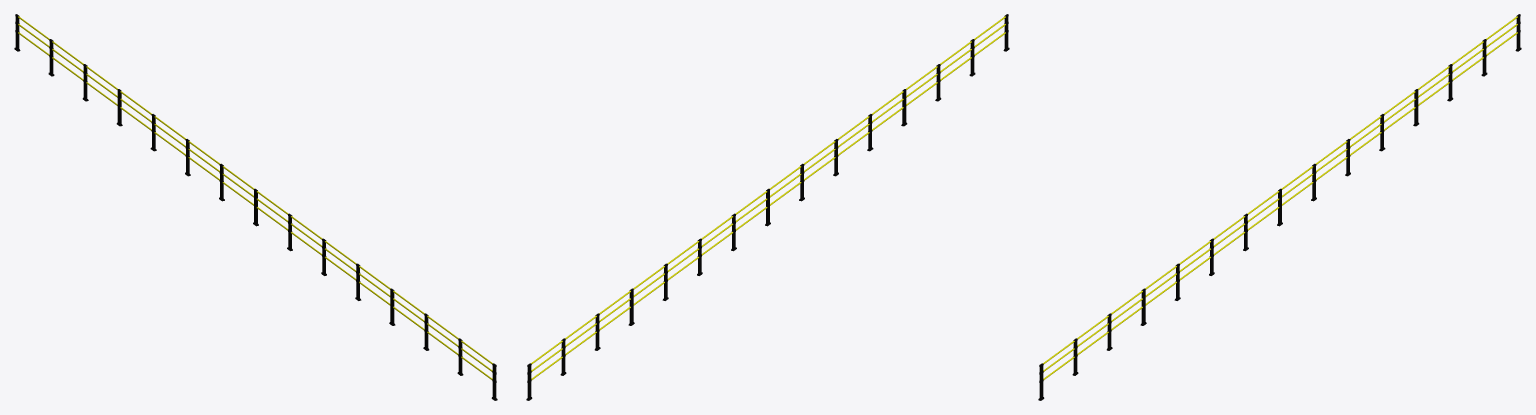
Rendered from Road_Fence.fbx.
3 renders of one model, left to right at view 1: azimuth 30°, elevation 25°; view 2: azimuth 150°, elevation 25°; view 3: azimuth 330°, elevation 25°, orthographic.
Visible parts, largest first — view 1: Road_Fence; view 2: Road_Fence; view 3: Road_Fence.
Part boxes in pixels (x1,y1,x2,y2): Road_Fence: [14, 14, 497, 400]; Road_Fence: [526, 14, 1009, 400]; Road_Fence: [1038, 14, 1521, 400].
Size of the model in its own units: 1.55 by 19.51 by 484.
